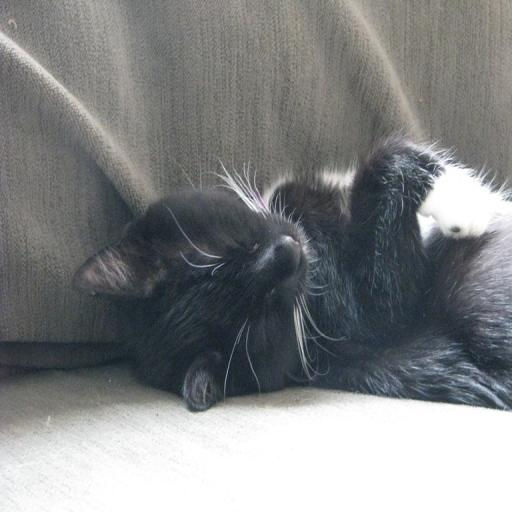cat: (70, 132, 512, 412)
